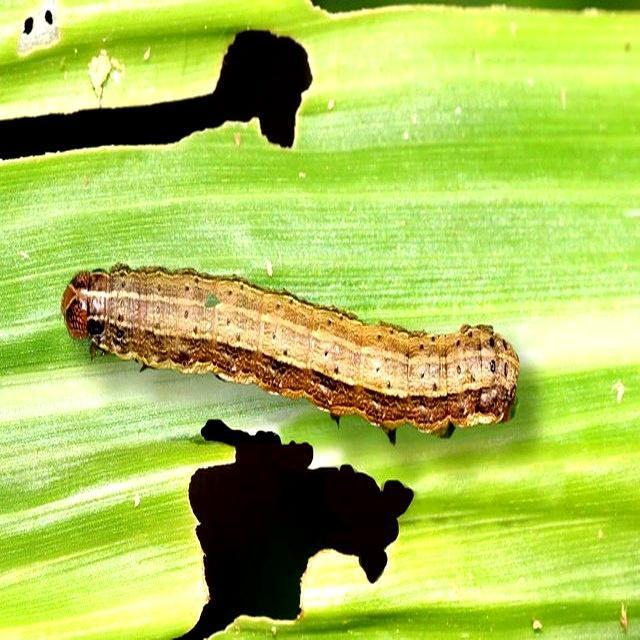gusano_cogollero: (59, 264, 522, 432)
